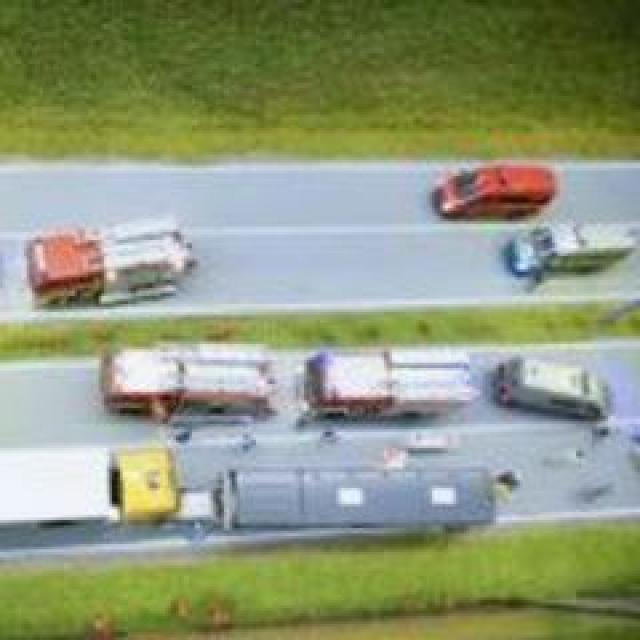traffic_incident: (203, 445, 501, 560), (19, 208, 197, 304)
